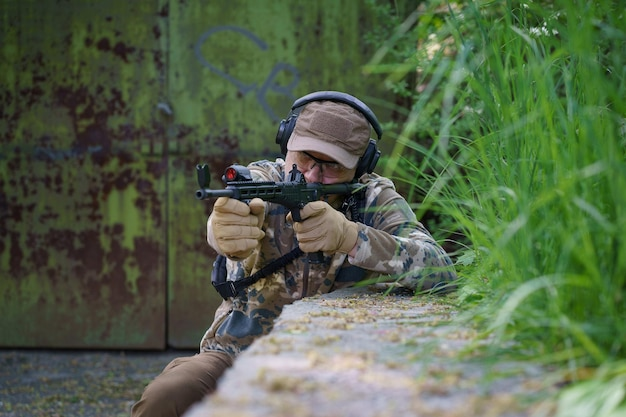gun: (194, 162, 370, 227)
